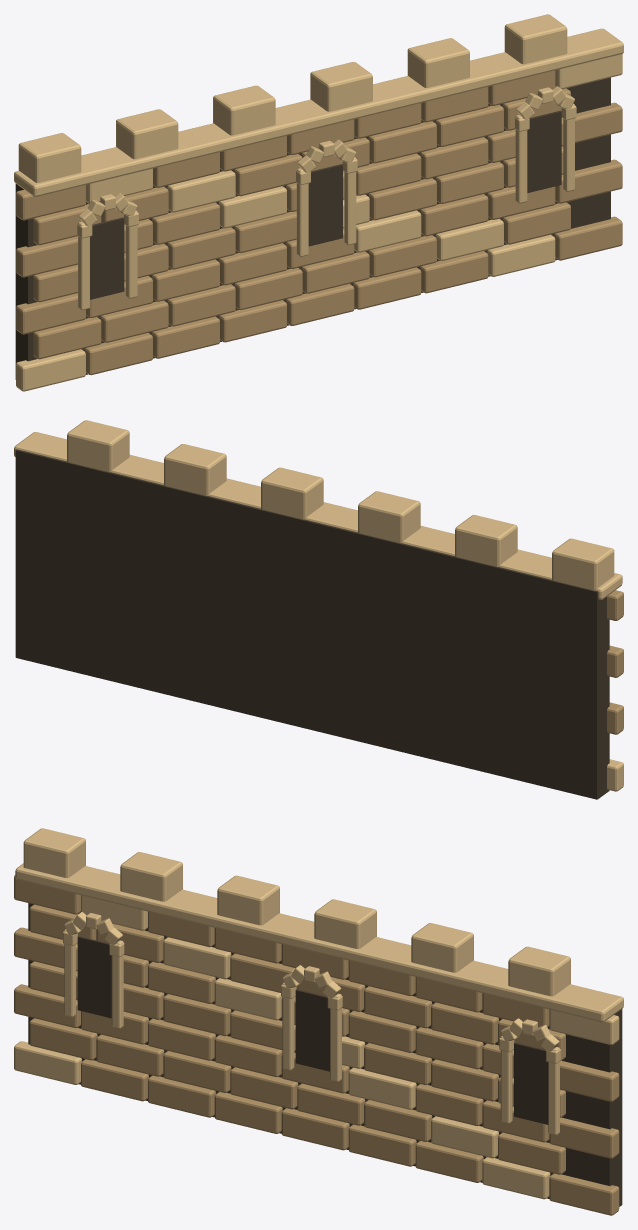
The model's file is courtyard_course_wall.glb.
The picture shows the model from 3 angles, top to bottom: view 1: azimuth 30°, elevation 25°; view 2: azimuth 150°, elevation 25°; view 3: azimuth 330°, elevation 25°; orthographic projection.
Visible parts, largest first — view 1: courtyard_course_wall; view 2: courtyard_course_wall; view 3: courtyard_course_wall.
Part boxes in pixels (x1,y1,x2,y2): courtyard_course_wall: (14,14,623,391); courtyard_course_wall: (14,420,623,799); courtyard_course_wall: (14,828,623,1215).
Size of the model in its own units: 12.36 by 4.68 by 0.805.
